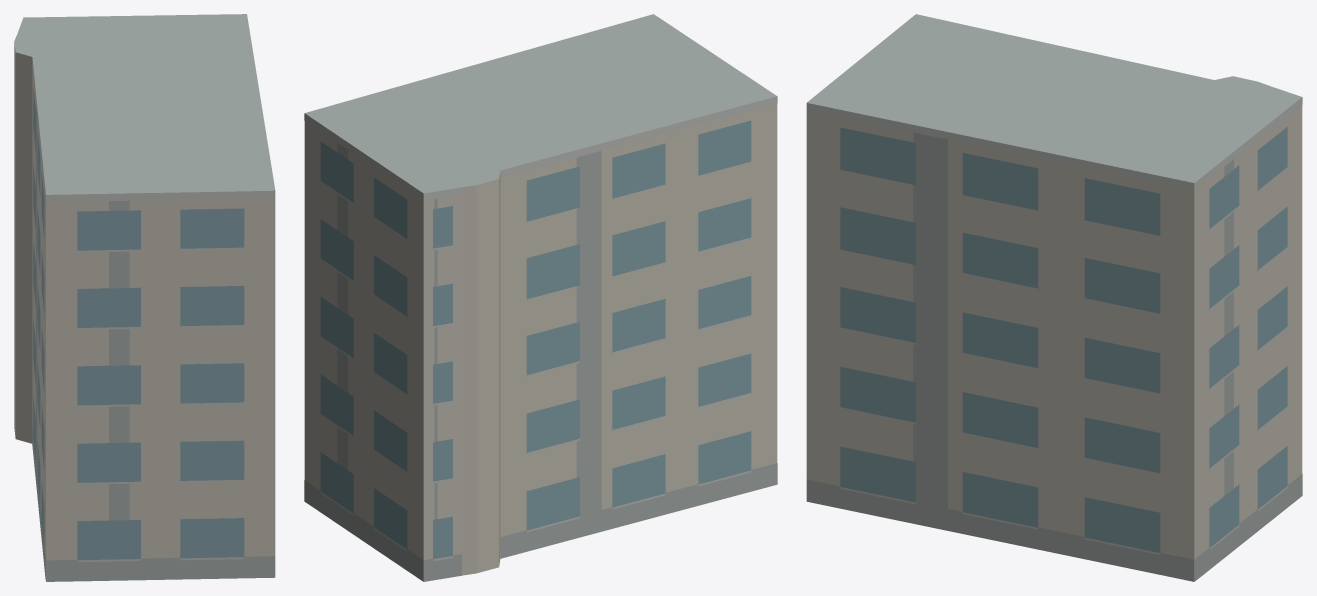
The model's file is survey-upis-32727159.glb.
3 renders of one model, left to right at view 1: azimuth 30°, elevation 25°; view 2: azimuth 150°, elevation 25°; view 3: azimuth 270°, elevation 25°, orthographic. The views are drawn at different scales.
Parts seen in each view (by area): view 1: survey-upis-32727159.tmp; view 2: survey-upis-32727159.tmp; view 3: survey-upis-32727159.tmp.
Part boxes in pixels (bbox=[...]): survey-upis-32727159.tmp: bbox=[14, 14, 275, 581]; survey-upis-32727159.tmp: bbox=[304, 14, 777, 581]; survey-upis-32727159.tmp: bbox=[806, 14, 1302, 581].
Size of the model in its own units: 11.65 by 12.8 by 14.43.
